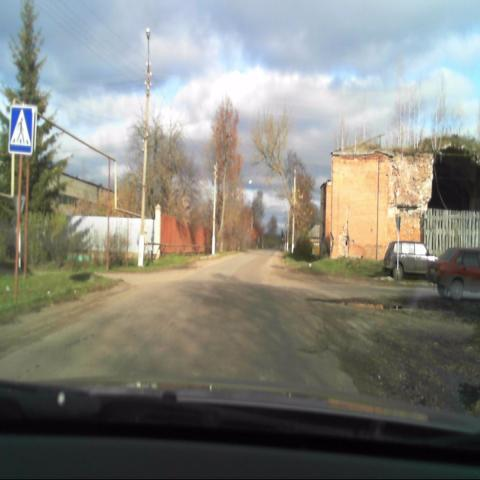5_19_1: (9, 104, 37, 155)
